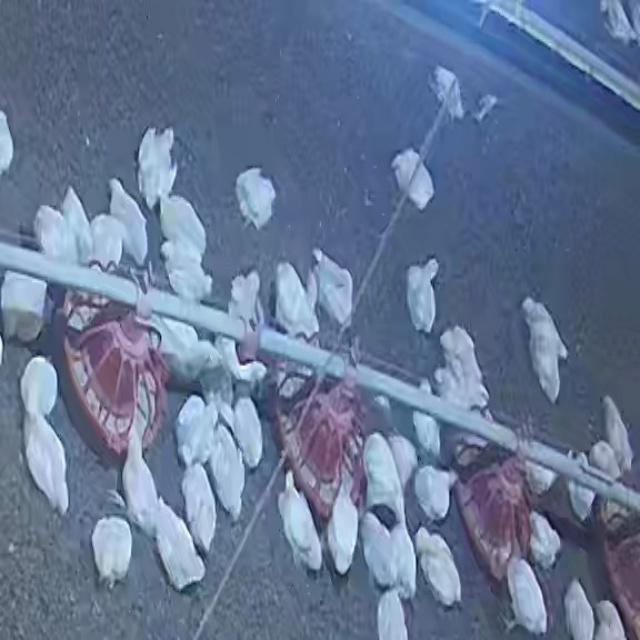chicken: (118, 419, 166, 537), (19, 407, 71, 515), (148, 499, 207, 593), (155, 316, 227, 388), (434, 326, 490, 416), (276, 469, 324, 574), (273, 259, 323, 342), (414, 528, 463, 610), (207, 420, 246, 520), (324, 473, 362, 575), (107, 177, 150, 265), (312, 249, 356, 332), (158, 193, 209, 264), (503, 556, 548, 635), (0, 272, 50, 342), (90, 514, 136, 590), (522, 294, 575, 359), (364, 433, 404, 519), (181, 461, 218, 553), (136, 125, 176, 208), (160, 241, 215, 300), (384, 515, 419, 598), (234, 167, 278, 233), (175, 394, 213, 467), (405, 257, 440, 335), (218, 336, 268, 390), (528, 323, 562, 402), (60, 186, 94, 265), (33, 204, 76, 266), (19, 354, 60, 418), (391, 148, 433, 209), (412, 464, 456, 522), (232, 392, 264, 471), (359, 511, 393, 582), (603, 394, 634, 471), (228, 270, 263, 338), (88, 213, 128, 270), (526, 510, 563, 571), (563, 578, 598, 639), (567, 454, 598, 519), (412, 400, 442, 464), (598, 0, 639, 46), (386, 432, 419, 489), (522, 451, 558, 501), (434, 67, 464, 121), (589, 437, 621, 487), (591, 597, 628, 640), (376, 592, 409, 640)
